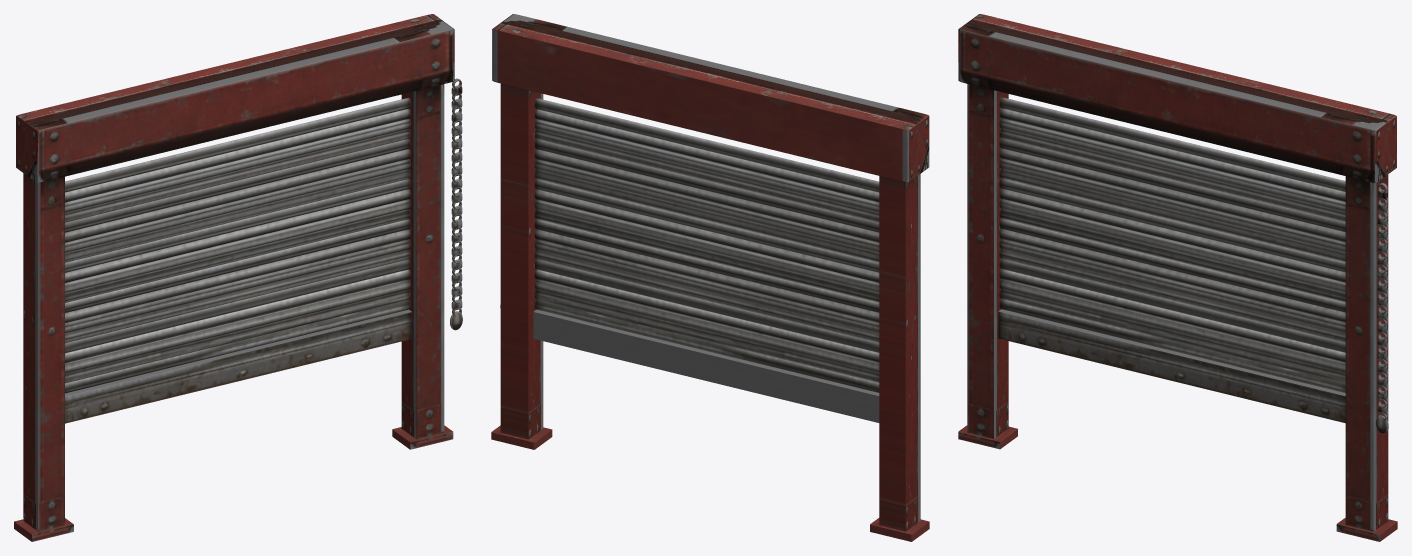
The model's file is shutter-half.glb.
3 views of the same model, side by side, from view 1: azimuth 30°, elevation 25°; view 2: azimuth 150°, elevation 25°; view 3: azimuth 330°, elevation 25° (orthographic).
Parts seen in each view (by area): view 1: leaf-slat (×21), hood, fixed-guide (×2), bottom-bar, anchor-foot (×2); view 2: leaf-slat (×21), hood, fixed-guide (×2), bottom-bar, anchor-foot (×2); view 3: leaf-slat (×21), hood, fixed-guide (×2), bottom-bar, anchor-foot (×2).
Boxes of the visible parts, x1=… form: leaf-slat (×21): x1=65, y1=97, x2=410, y2=393; hood: x1=16, y1=14, x2=454, y2=182; fixed-guide (×2): x1=23, y1=84, x2=444, y2=531; bottom-bar: x1=65, y1=309, x2=411, y2=423; anchor-foot (×2): x1=14, y1=425, x2=453, y2=541; leaf-slat (×21): x1=534, y1=98, x2=879, y2=392; hood: x1=492, y1=14, x2=929, y2=182; fixed-guide (×2): x1=500, y1=83, x2=920, y2=531; bottom-bar: x1=533, y1=309, x2=879, y2=422; anchor-foot (×2): x1=491, y1=425, x2=929, y2=541; leaf-slat (×21): x1=999, y1=97, x2=1345, y2=392; hood: x1=958, y1=14, x2=1396, y2=182; fixed-guide (×2): x1=967, y1=84, x2=1388, y2=531; bottom-bar: x1=998, y1=309, x2=1345, y2=423; anchor-foot (×2): x1=958, y1=425, x2=1397, y2=541.
Size of the model in its own units: 5.86 by 5.37 by 0.5.
Materials: 3 (3 with a texture image).
